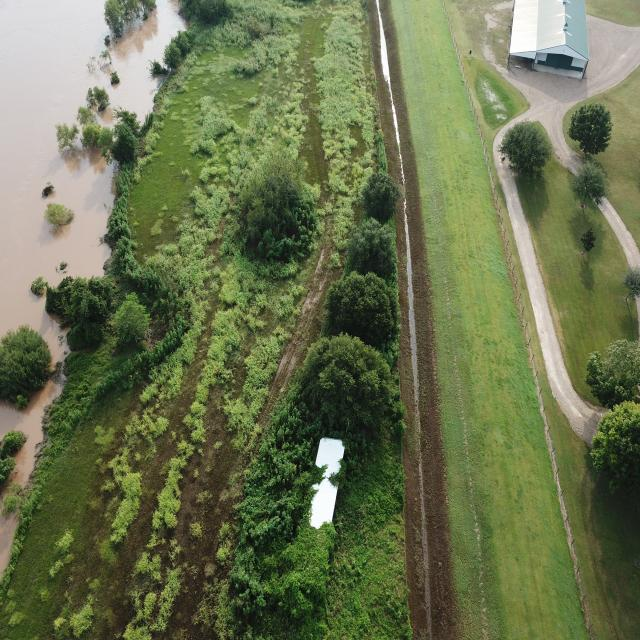fire: (0, 0, 185, 363), (0, 374, 63, 485)
